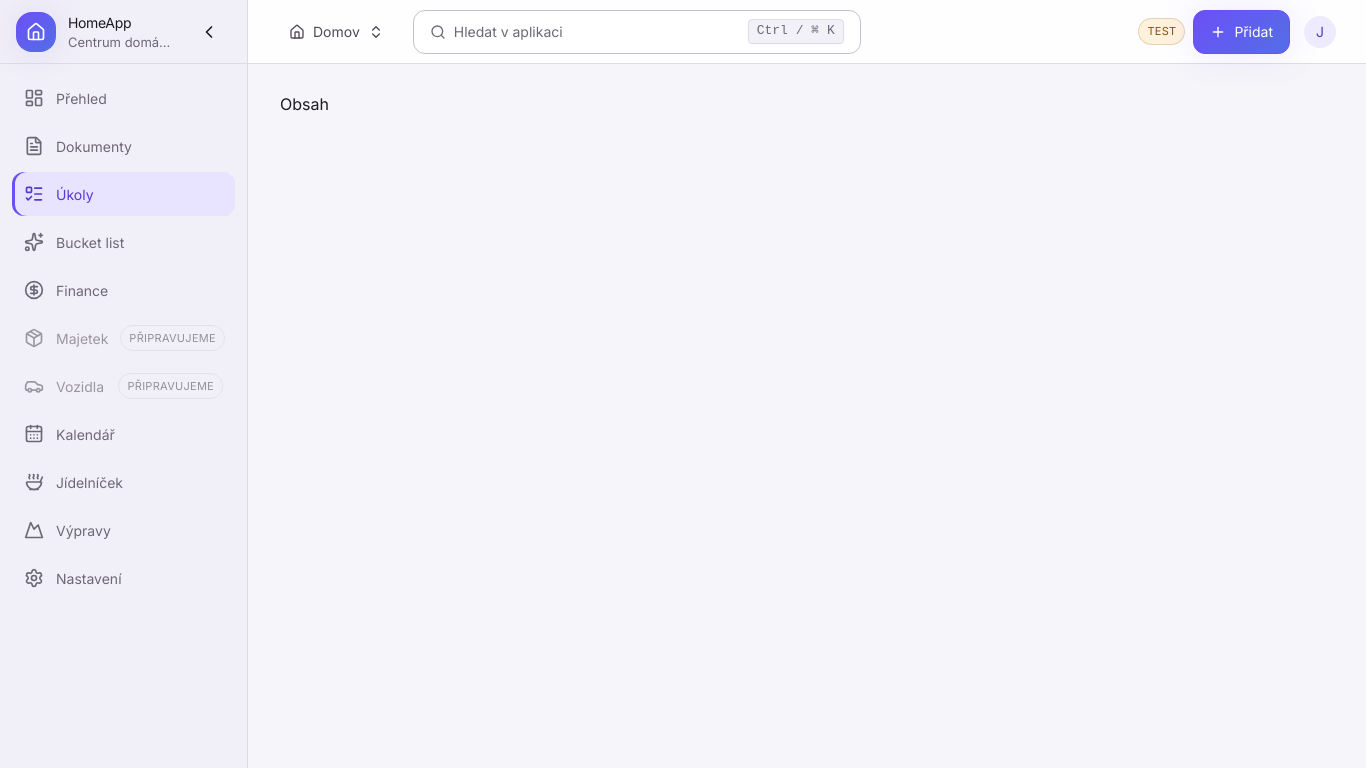
Test case: application shell navigation › keeps available results visible when one provider reports a partial failure
Step 1. Click the button "Hledat v aplikaci Ctrl / ⌘ K" → (508, 32), box [413,10,861,54]
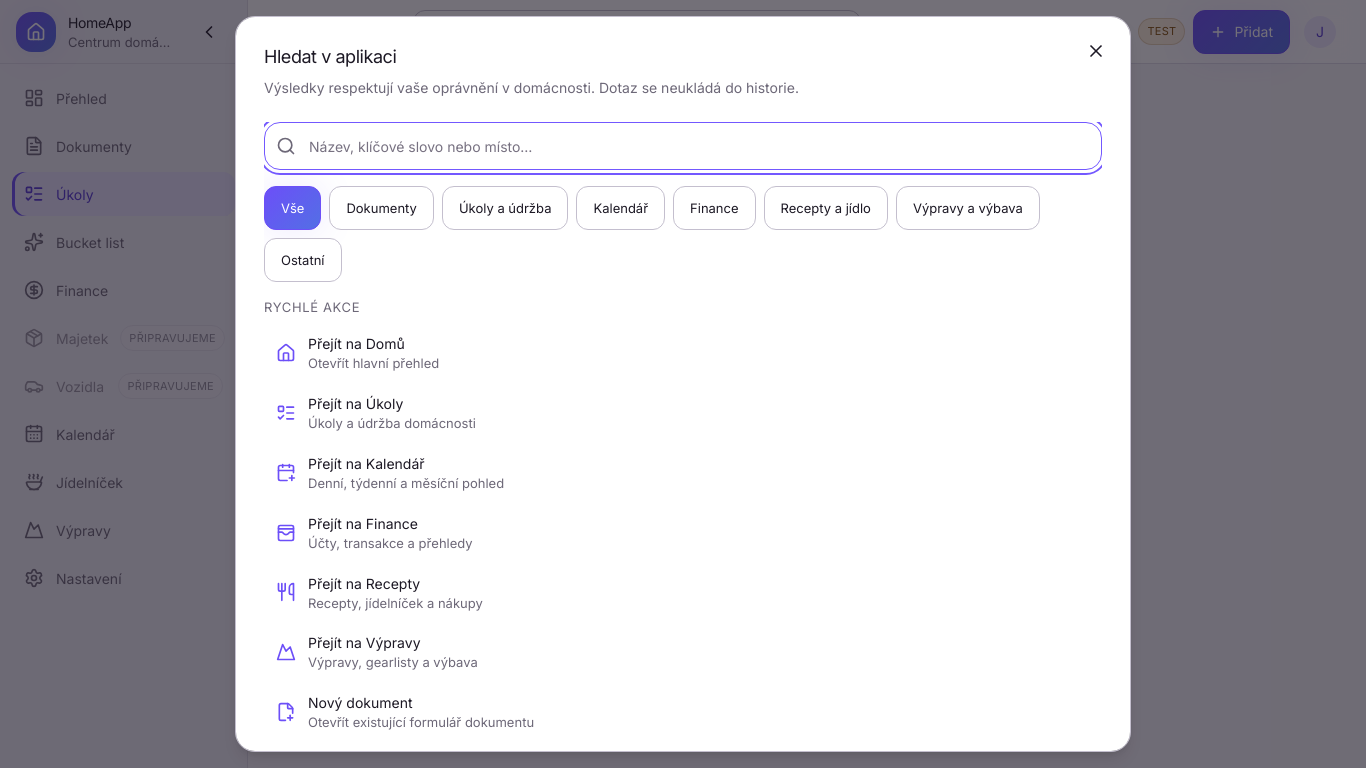
Step 2. Type "revize" into the dropdown named "Hledat v aplikaci" → (683, 146), box [264,122,1102,170]
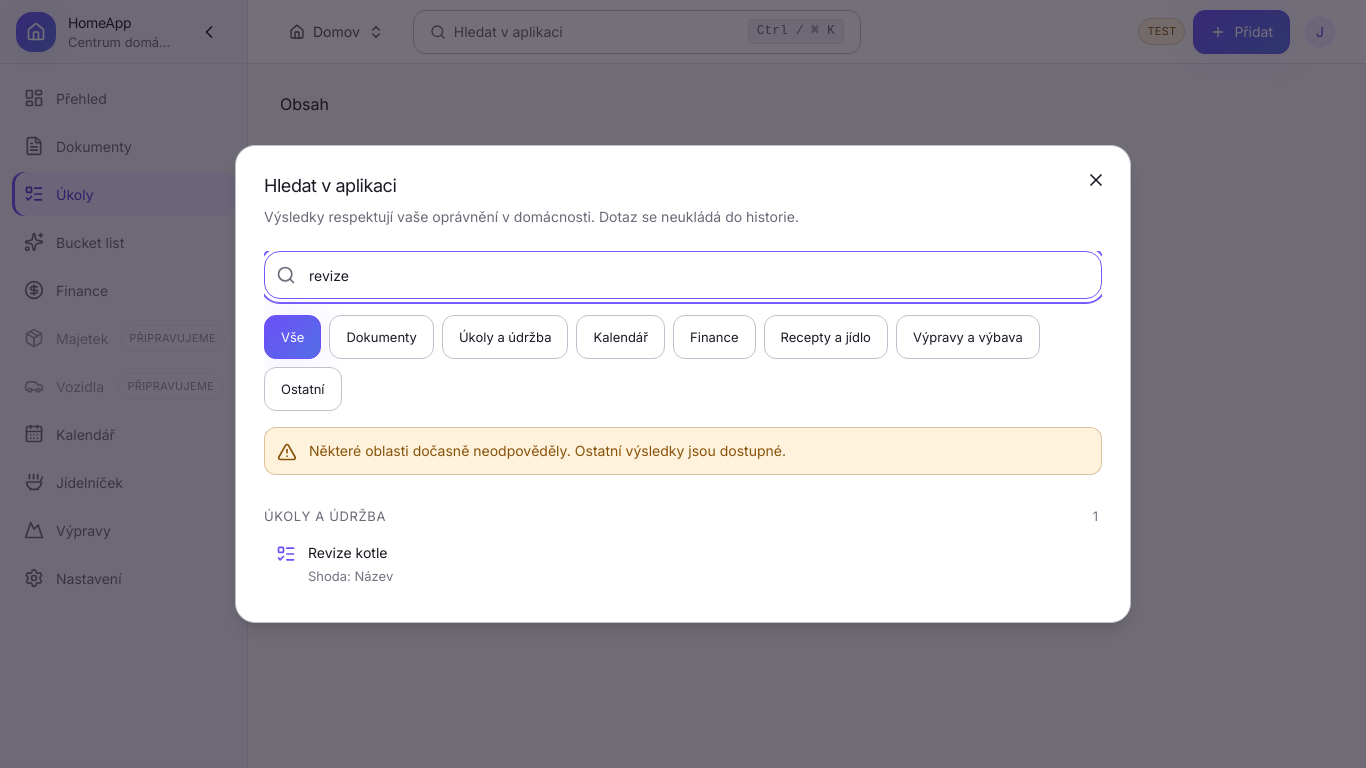
Expected: the text "Revize kotle" is shown, [308,542,388,563]
Expected: the text "Některé oblasti dočasně neodpověděly" is shown, [309,442,786,459]
